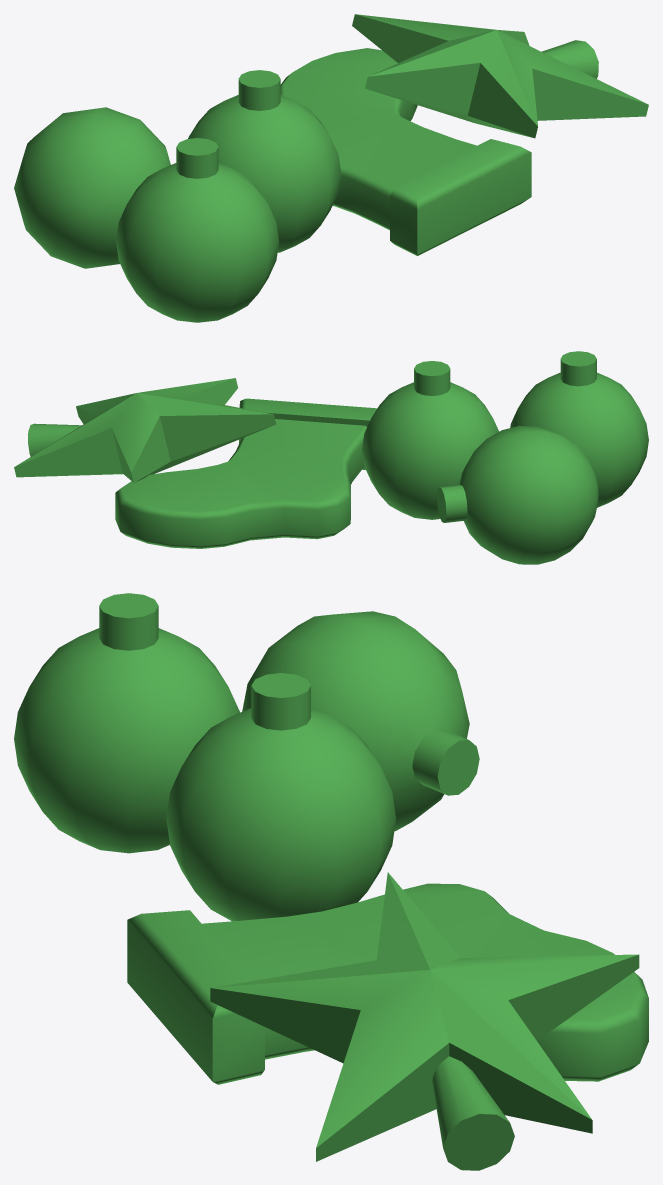
The model's file is ChristmasDecoration.fbx.
3 views of the same model, one above another, from view 1: azimuth 30°, elevation 25°; view 2: azimuth 150°, elevation 25°; view 3: azimuth 270°, elevation 25° (orthographic). The views are drawn at different scales.
Visible parts, largest first — view 1: cd_01, cd_06, cd_02, cd_07, cd_05, cd_03; view 2: cd_01, cd_07, cd_02, cd_05, cd_06, cd_03; view 3: cd_02, cd_05, cd_01, cd_06, cd_07, cd_03.
Part boxes in pixels (left/top/right/bottom): cd_01: left=280, top=48, right=531, bottom=255; cd_06: left=116, top=138, right=278, bottom=322; cd_02: left=352, top=14, right=648, bottom=138; cd_07: left=14, top=107, right=170, bottom=268; cd_05: left=188, top=70, right=341, bottom=252; cd_03: left=541, top=40, right=598, bottom=78; cd_01: left=115, top=398, right=377, bottom=548; cd_07: left=437, top=425, right=598, bottom=564; cd_02: left=14, top=378, right=276, bottom=482; cd_05: left=362, top=361, right=498, bottom=519; cd_06: left=510, top=351, right=648, bottom=507; cd_03: left=28, top=423, right=81, bottom=456; cd_02: left=210, top=872, right=639, bottom=1161; cd_05: left=166, top=673, right=396, bottom=921; cd_01: left=127, top=883, right=648, bottom=1084; cd_06: left=14, top=593, right=239, bottom=853; cd_07: left=242, top=611, right=479, bottom=831; cd_03: left=432, top=1056, right=514, bottom=1170.
Bounding box in the file's own units: 2.85 × 0.7522 × 1.82.
